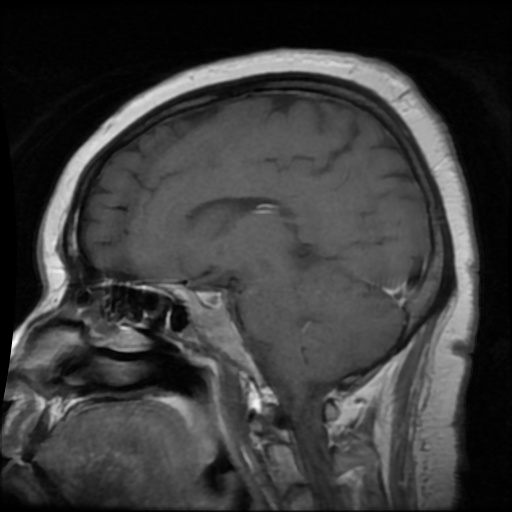pituitary: (194, 289, 223, 306)
